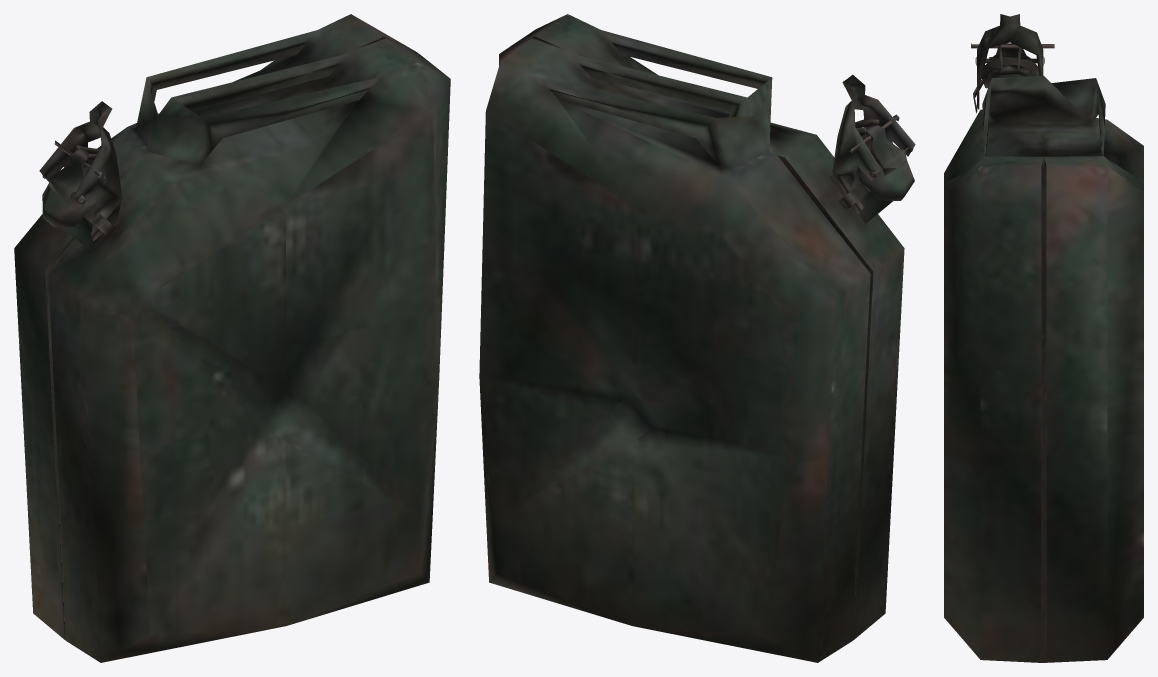
Rendered from metal_jerrycan_green.glb.
3 renders of one model, left to right at view 1: azimuth 30°, elevation 25°; view 2: azimuth 150°, elevation 25°; view 3: azimuth 270°, elevation 25°, orthographic. The views are drawn at different scales.
Visible parts, largest first — view 1: metal_jerrycan_green_body, metal_jerrycan_green_latch, metal_jerrycan_green_cap; view 2: metal_jerrycan_green_body, metal_jerrycan_green_latch, metal_jerrycan_green_cap; view 3: metal_jerrycan_green_body, metal_jerrycan_green_latch, metal_jerrycan_green_cap, metal_jerrycan_green_fastener.
Boxes of the visible parts, left/top/right/bottom form: metal_jerrycan_green_body: left=14, top=14, right=450, bottom=662; metal_jerrycan_green_latch: left=39, top=101, right=122, bottom=241; metal_jerrycan_green_cap: left=42, top=147, right=97, bottom=227; metal_jerrycan_green_body: left=479, top=14, right=904, bottom=662; metal_jerrycan_green_latch: left=832, top=74, right=915, bottom=213; metal_jerrycan_green_cap: left=859, top=122, right=914, bottom=200; metal_jerrycan_green_body: left=944, top=75, right=1143, bottom=662; metal_jerrycan_green_latch: left=975, top=14, right=1044, bottom=109; metal_jerrycan_green_cap: left=981, top=43, right=1039, bottom=88; metal_jerrycan_green_fastener: left=988, top=45, right=1031, bottom=78.
Size of the model in its own units: 0.36 by 0.4982 by 0.1709.
1 material, 1 textured.
